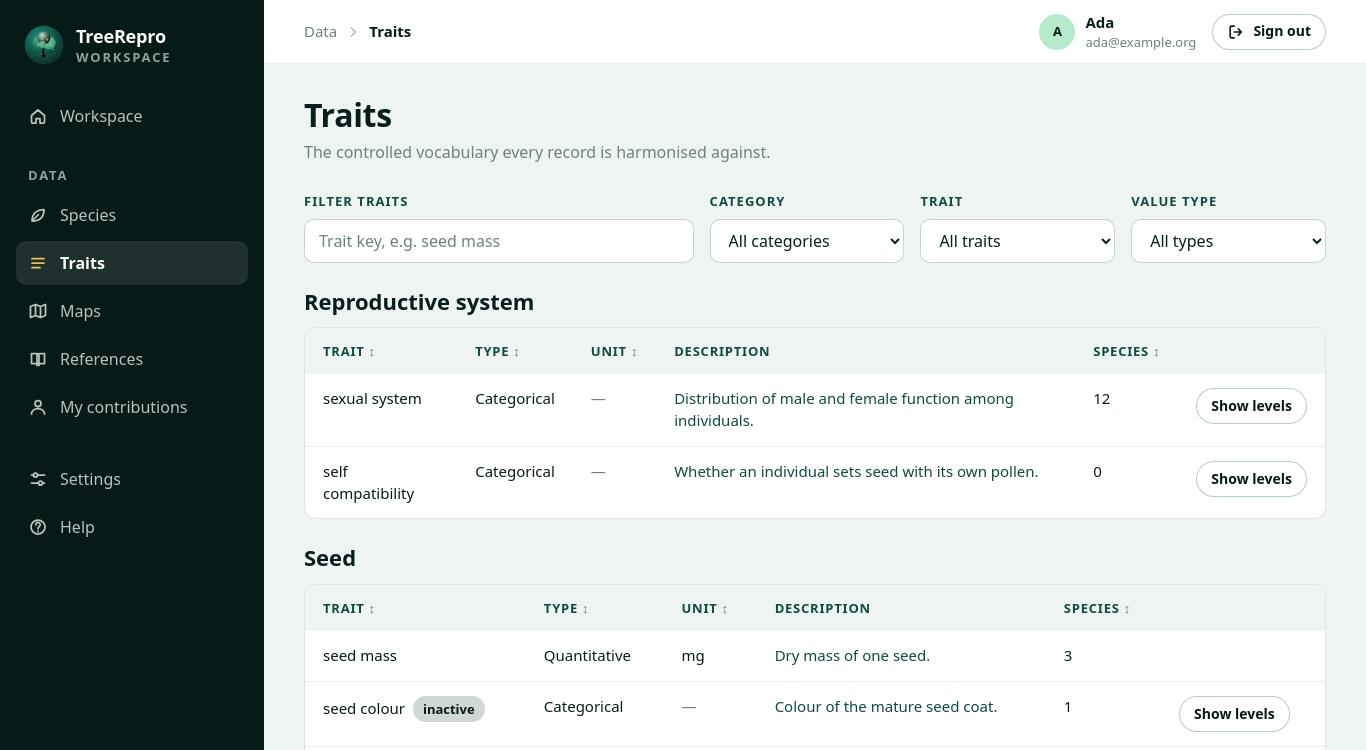
Test case: RFC-13 R2, RFC-62 R5 TraitsPage › unfolds and folds a trait’s levels, striking inactive ones through
This screenshot has width=1366, height=750.
Expected: the heading "Traits" is shown, [304, 93, 392, 136]
What coordinates should you click on to do the following:
click the button "Show levels" in the row of "sexual system"
I would click on:
 (1252, 406)
Its box is [1196, 388, 1307, 424].
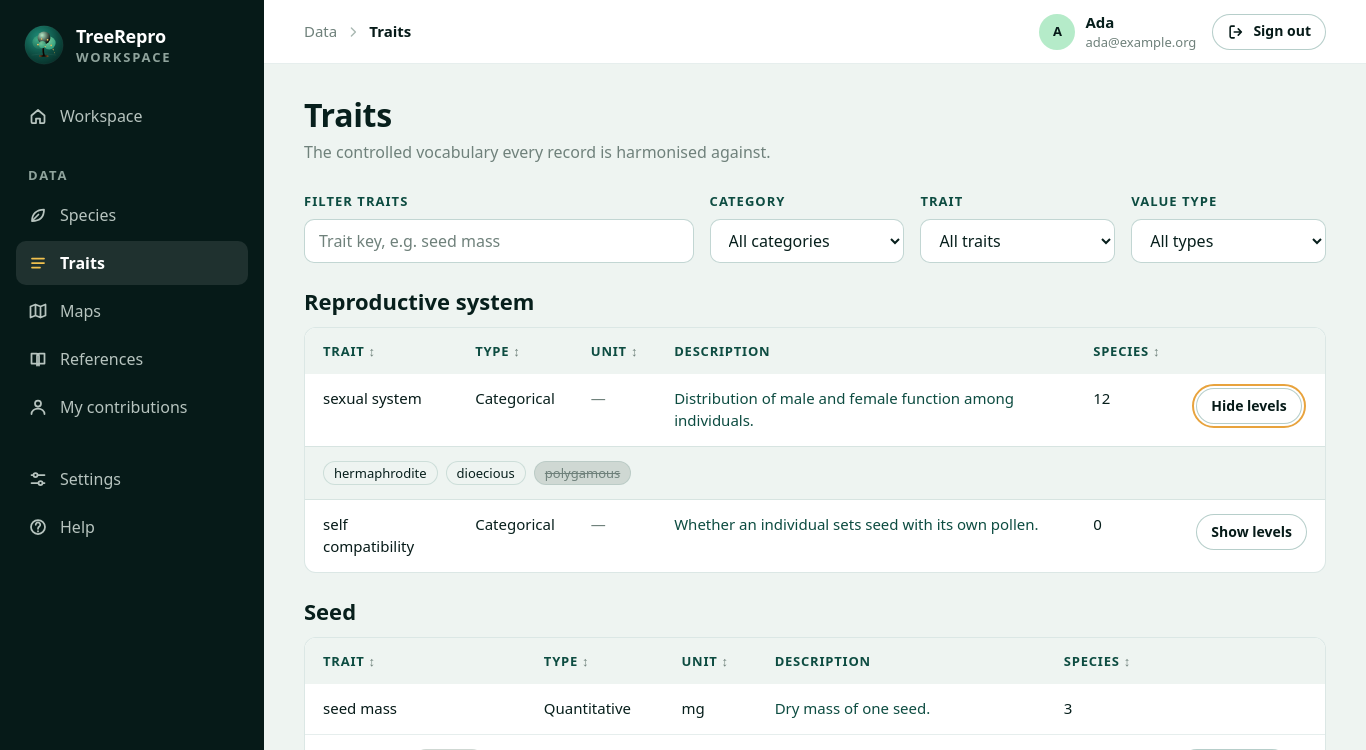
Expected: the button named "Show levels" reads "Hide levels"
Expected: the button named "Show levels" is expanded
Expected: the list items read "hermaphrodite", "dioecious", "polygamous (inactive)", in this order, [323, 461, 438, 485]; [446, 461, 526, 485]; [534, 461, 631, 485]
What coordinates should you click on to do the following:
click the button named "Show levels"
I would click on:
 (1249, 406)
Its box is [1196, 388, 1302, 424].
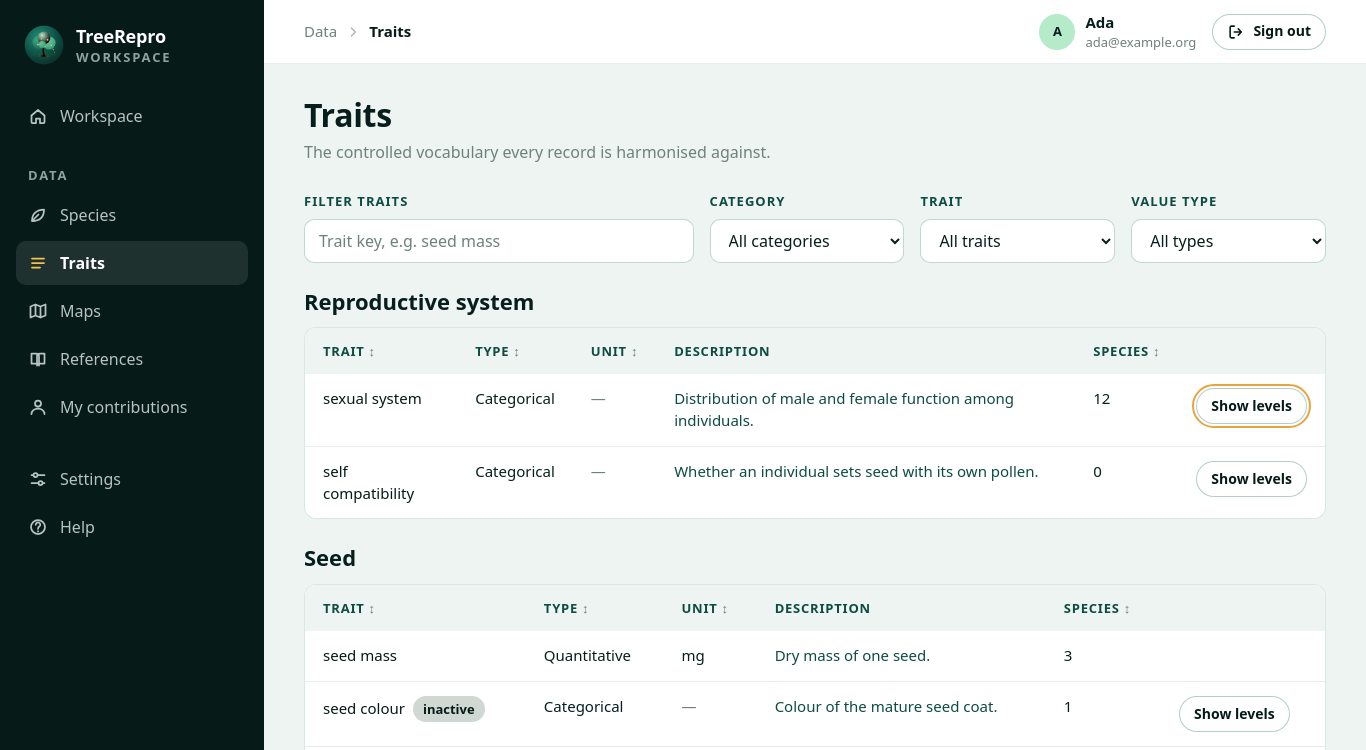
Expected: the button "Show levels" in the row of "sexual system" is shown, [1196, 388, 1307, 424]
